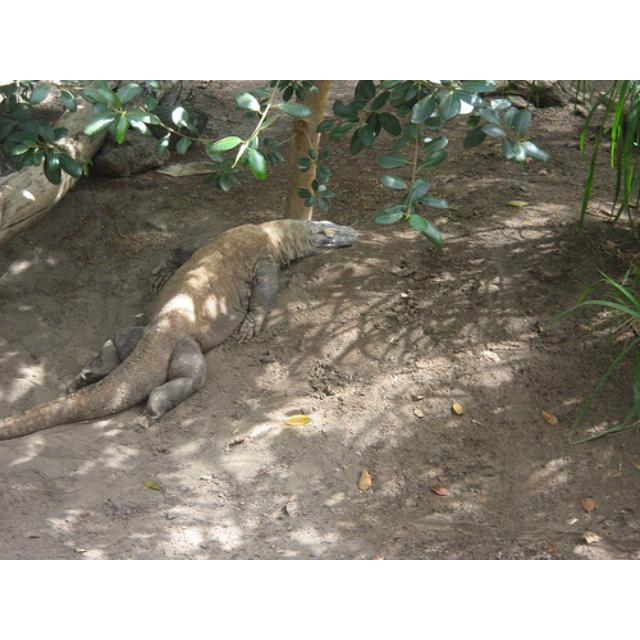KomodoDragon: (0, 216, 358, 442)
